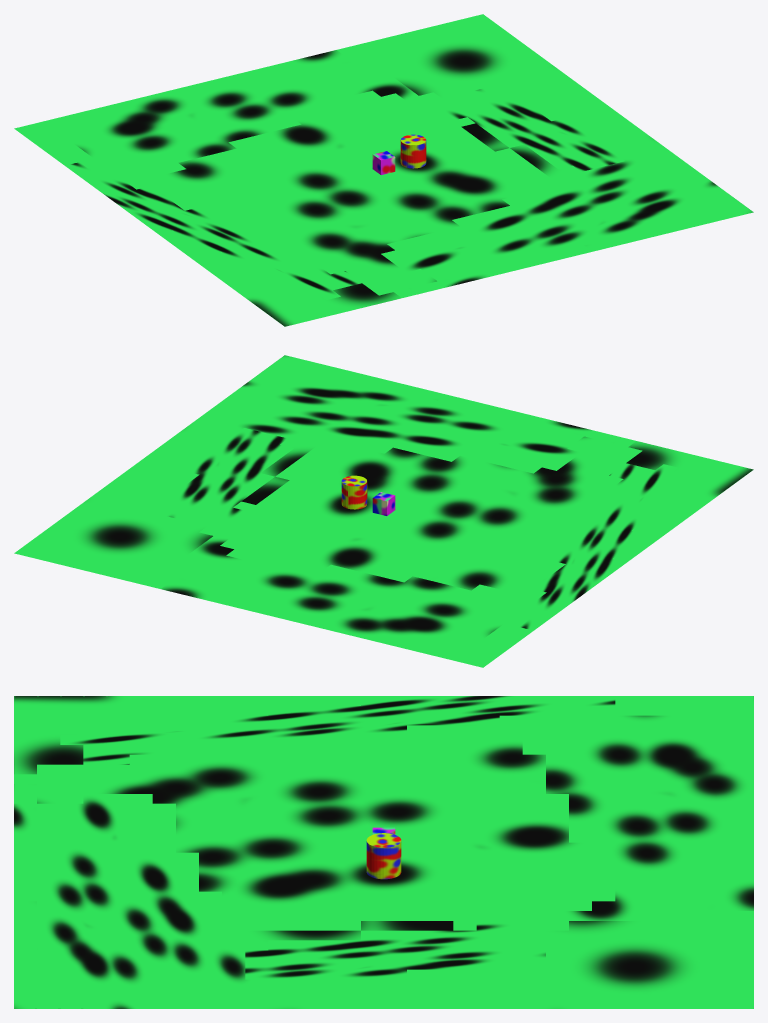
The model's file is testMovement.gltf.
The picture shows the model from 3 angles, top to bottom: view 1: azimuth 30°, elevation 25°; view 2: azimuth 150°, elevation 25°; view 3: azimuth 270°, elevation 25°; orthographic projection. The views are drawn at different scales.
Parts seen in each view (by area): view 1: Plane, Cylinder; view 2: Plane, Cylinder; view 3: Plane, Cylinder.
Part boxes in pixels (left/top/right/bottom): Plane: left=14, top=14, right=753, bottom=326; Cylinder: left=400, top=134, right=426, bottom=168; Plane: left=14, top=355, right=753, bottom=667; Cylinder: left=341, top=475, right=367, bottom=509; Plane: left=14, top=696, right=753, bottom=1008; Cylinder: left=366, top=833, right=401, bottom=879.
Size of the model in its own units: 281 by 13.36 by 281.
Materials: 3 (3 with a texture image).
